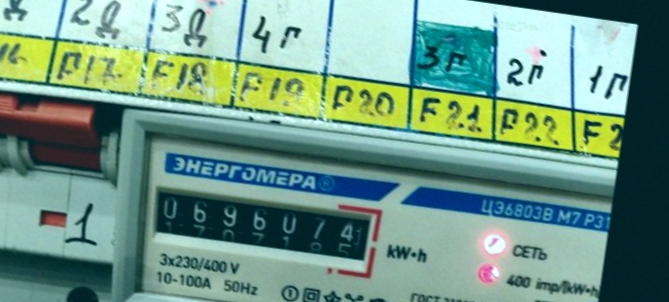0: (158, 193, 180, 219), (279, 208, 298, 235)
4: (336, 216, 355, 240)
5: (335, 241, 353, 258)
6: (250, 204, 270, 232), (189, 197, 210, 223)
7: (308, 213, 328, 240)
9: (219, 200, 238, 228)
screen: (138, 171, 385, 274)
